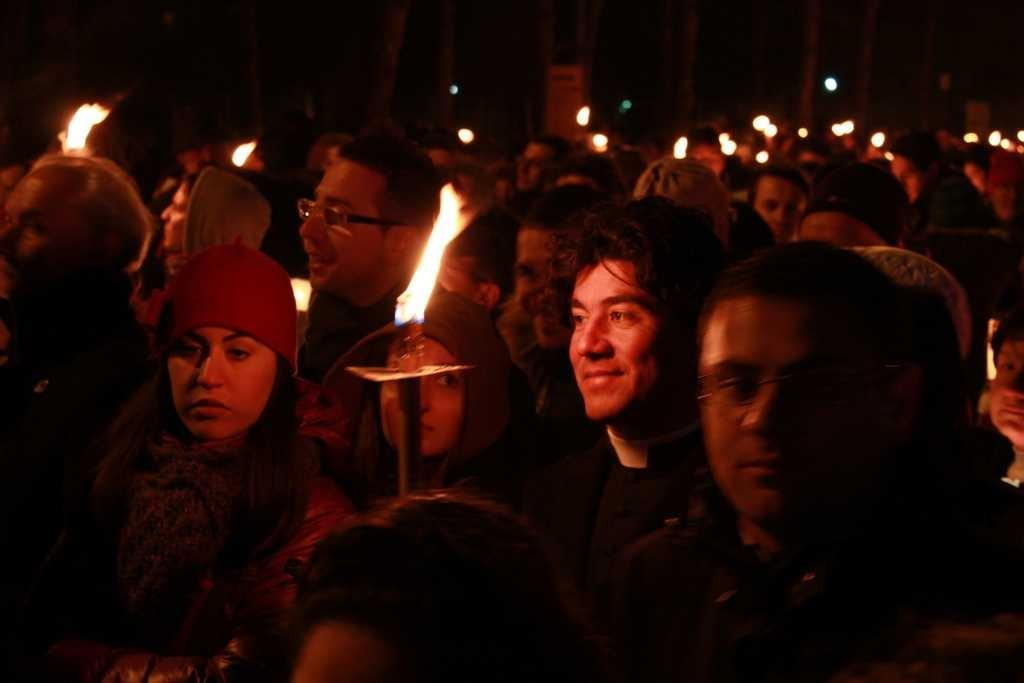fire: (386, 188, 478, 333), (58, 98, 113, 167)
